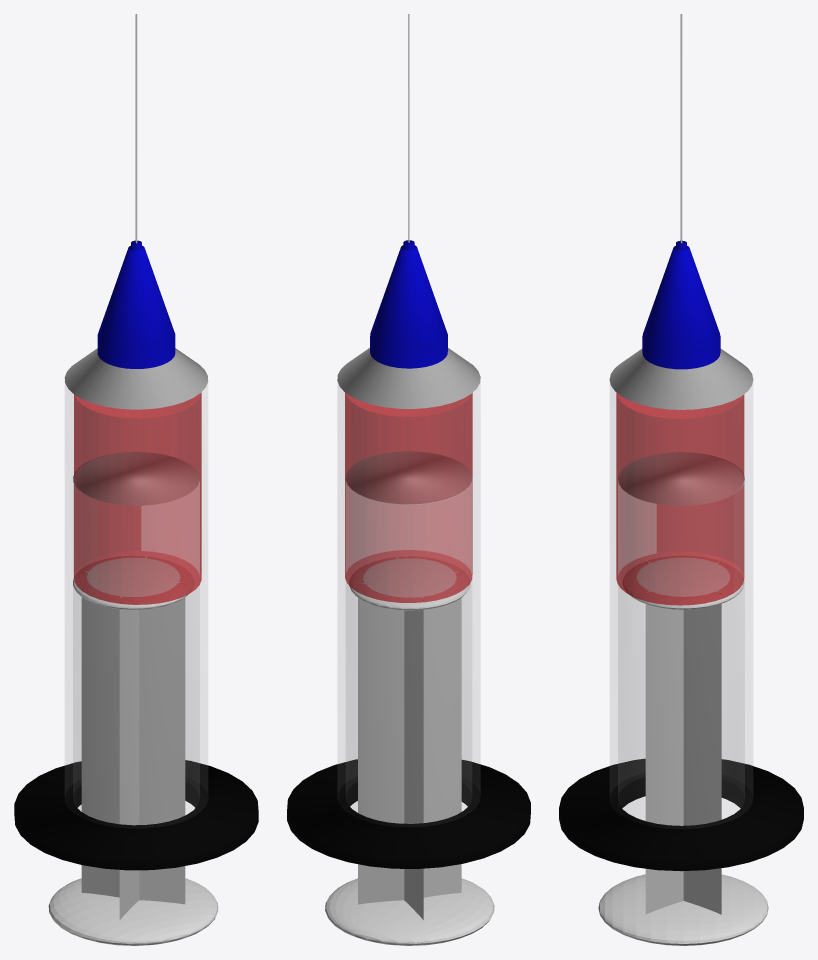
File: SyringeDestroy.fbx
3 views of the same model, side by side, from view 1: azimuth 30°, elevation 25°; view 2: azimuth 150°, elevation 25°; view 3: azimuth 270°, elevation 25° (orthographic).
Parts seen in each view (by area): view 1: Cube.002; view 2: Cube.002; view 3: Cube.002.
Part boxes in pixels (x1,y1,x2,y2): Cube.002: [14, 14, 258, 945]; Cube.002: [287, 14, 530, 945]; Cube.002: [559, 14, 803, 945].
Size of the model in its own units: 230 by 940 by 230.
